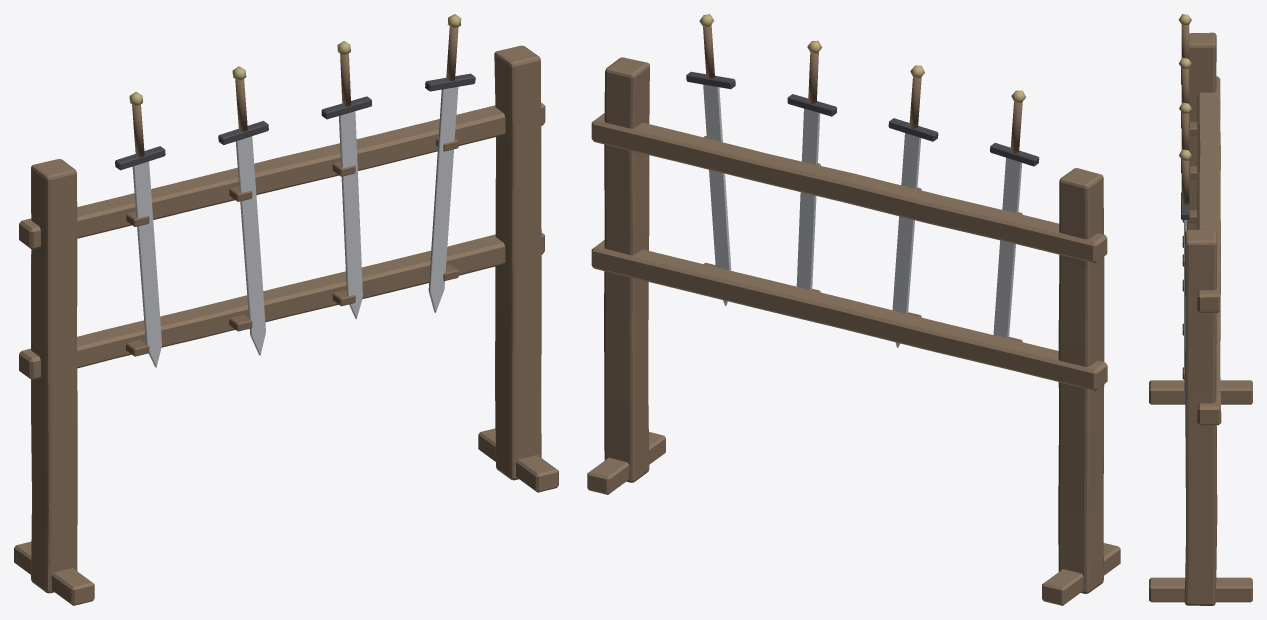
File: sword_rack.glb
The picture shows the model from 3 angles, left to right: view 1: azimuth 30°, elevation 25°; view 2: azimuth 150°, elevation 25°; view 3: azimuth 270°, elevation 25°; orthographic projection. The views are drawn at different scales.
Visible parts, largest first — view 1: sword_rack; view 2: sword_rack; view 3: sword_rack.
Part boxes in pixels (box(x1,y1,x2,y2)): sword_rack: box(14, 14, 558, 605); sword_rack: box(587, 14, 1120, 605); sword_rack: box(1149, 14, 1252, 605).
Bounding box in the file's own units: 2 × 1.78 × 0.4.
